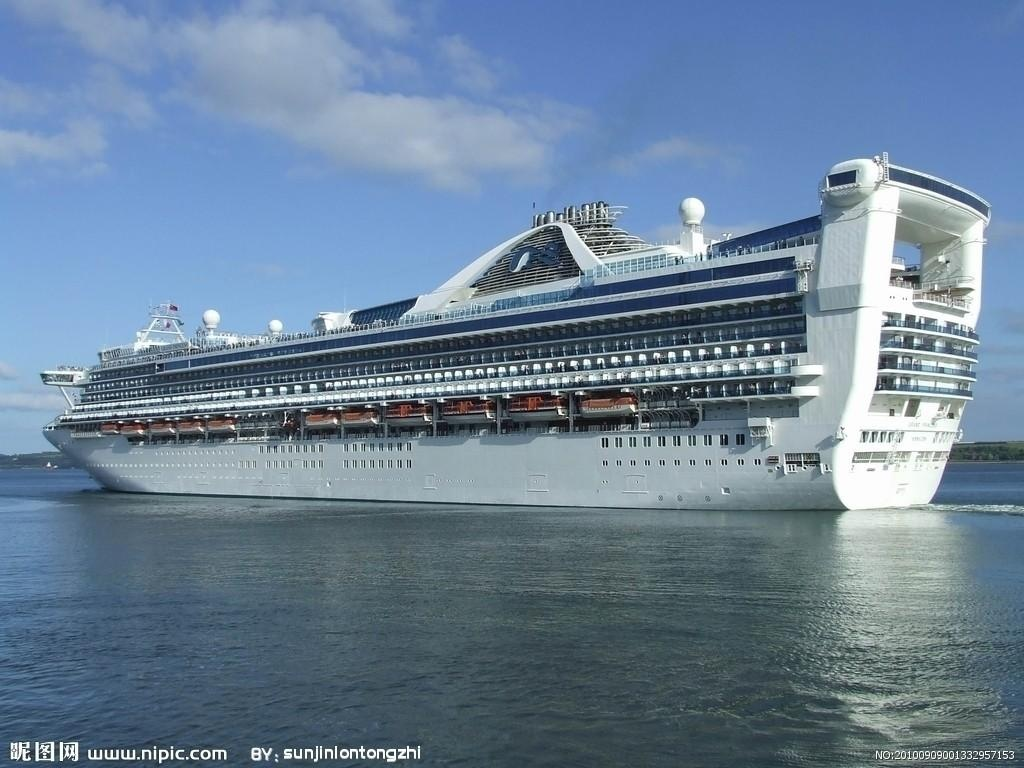youlun: (26, 144, 1007, 504)
